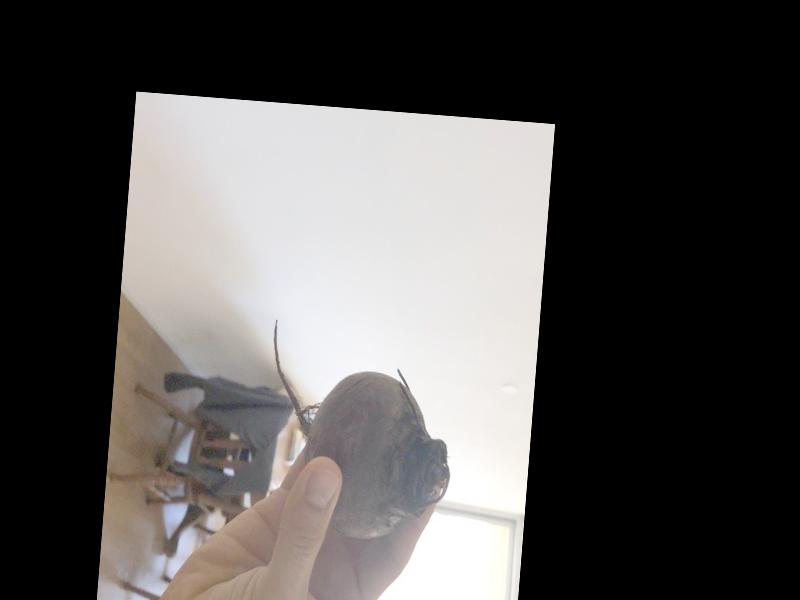Beet: (259, 317, 461, 544)
